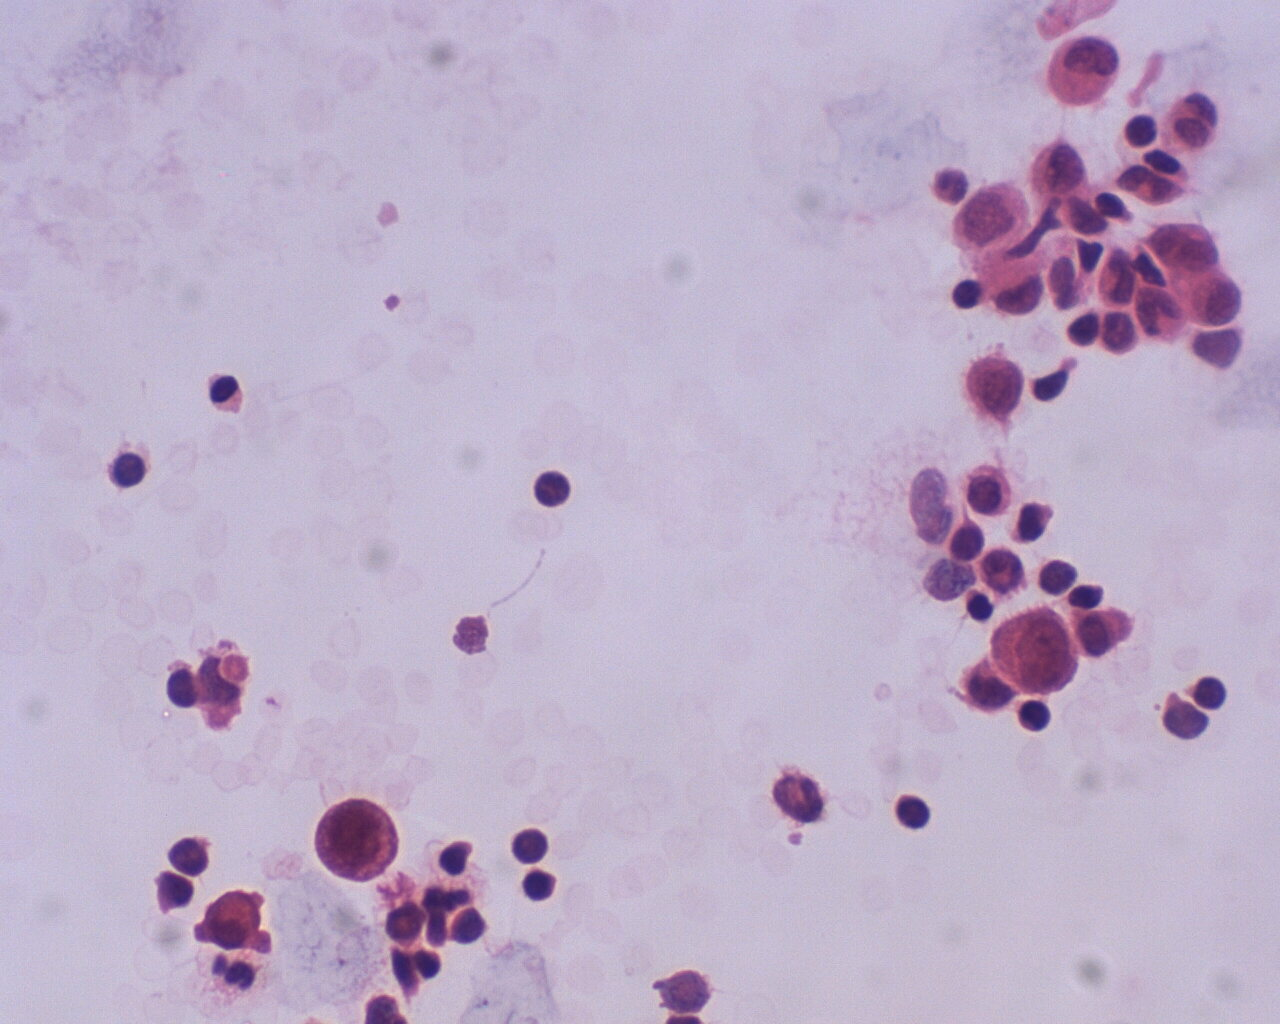ab: (993, 605, 1083, 703), (310, 789, 399, 888), (946, 176, 1032, 260), (1040, 31, 1119, 110), (1144, 215, 1226, 276), (1022, 134, 1091, 201), (961, 353, 1024, 423), (1065, 604, 1135, 664)
lymph: (891, 787, 937, 839), (505, 821, 553, 869), (532, 468, 576, 514), (1016, 696, 1058, 741)
